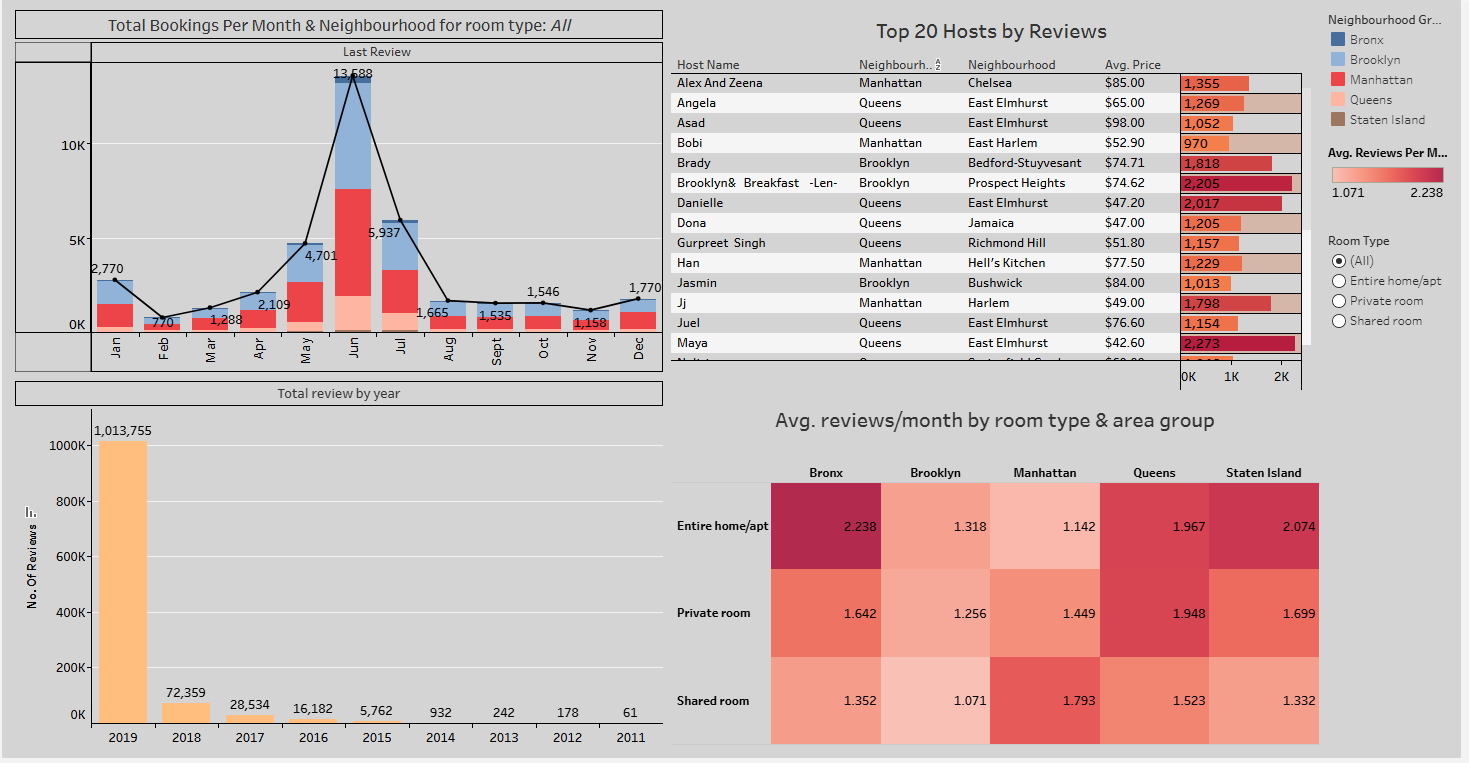

The dashboard page shown, as its layout file describes it:
{"tool":"tableau","page":{"name":"Reviews Dashboard ","canvas":[1000,1000],"units":"permille","ordinal":1},"visuals":[{"type":"worksheet","title":"Total Bookings Per Month","mark":"Bar","rows":["name","name"],"cols":["last_review"],"box":[5,9.9,445.1,490]},{"type":"worksheet","title":"Top 20 Hosts by Reviews","mark":"Bar","rows":["host_name","neighbourhood_group","neighbourhood","price"],"cols":["number_of_reviews"],"box":[450.1,9.9,445.2,490]},{"type":"filter","title":"Total Bookings Per Month","param":"[federated.1vtuduo0x0v4q81a6fgev0vzb86r].[none:room_type:nk]","box":[895.3,9.9,99.8,183.6]},{"type":"legend","title":"Total Bookings Per Month","param":"[federated.1vtuduo0x0v4q81a6fgev0vzb86r].[none:neighbourhood_group:nk]","box":[895.3,193.6,99.8,197.3]},{"type":"legend","title":"Avg. reviews/month by room type & area group","param":"[federated.1vtuduo0x0v4q81a6fgev0vzb86r].[avg:reviews_per_month:qk]","box":[895.3,390.8,99.8,100.5]},{"type":"worksheet","title":"Total review by year","mark":"Bar","rows":["number_of_reviews"],"cols":["last_review"],"box":[5,500,445.1,490.1]},{"type":"worksheet","title":"Avg. reviews/month by room type & area group","mark":"Square","rows":["room_type"],"cols":["neighbourhood_group"],"box":[450.1,500,445.2,490.1]}]}

Visuals, with their boxes on the dashboard's canvas, which has no fixed pixel size, in thousandths of its width and height (x1, y1, x2, y2). These are canvas units, not pixel positions in the 1469x763 screenshot, which may show the page scaled, cropped or inside an application window:
"Total Bookings Per Month" worksheet (Bar marks): BBox(5, 10, 450, 500)
"Top 20 Hosts by Reviews" worksheet (Bar marks): BBox(450, 10, 895, 500)
"Total Bookings Per Month" filter: BBox(895, 10, 995, 194)
"Total Bookings Per Month" legend: BBox(895, 194, 995, 391)
"Avg. reviews/month by room type & area group" legend: BBox(895, 391, 995, 491)
"Total review by year" worksheet (Bar marks): BBox(5, 500, 450, 990)
"Avg. reviews/month by room type & area group" worksheet (Square marks): BBox(450, 500, 895, 990)
